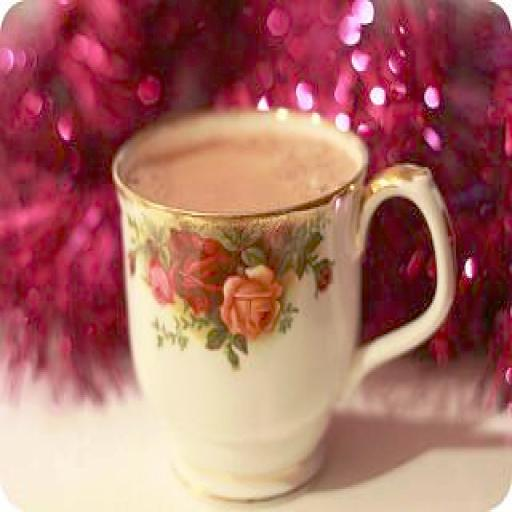rose: (158, 230, 221, 305), (221, 268, 280, 336)
